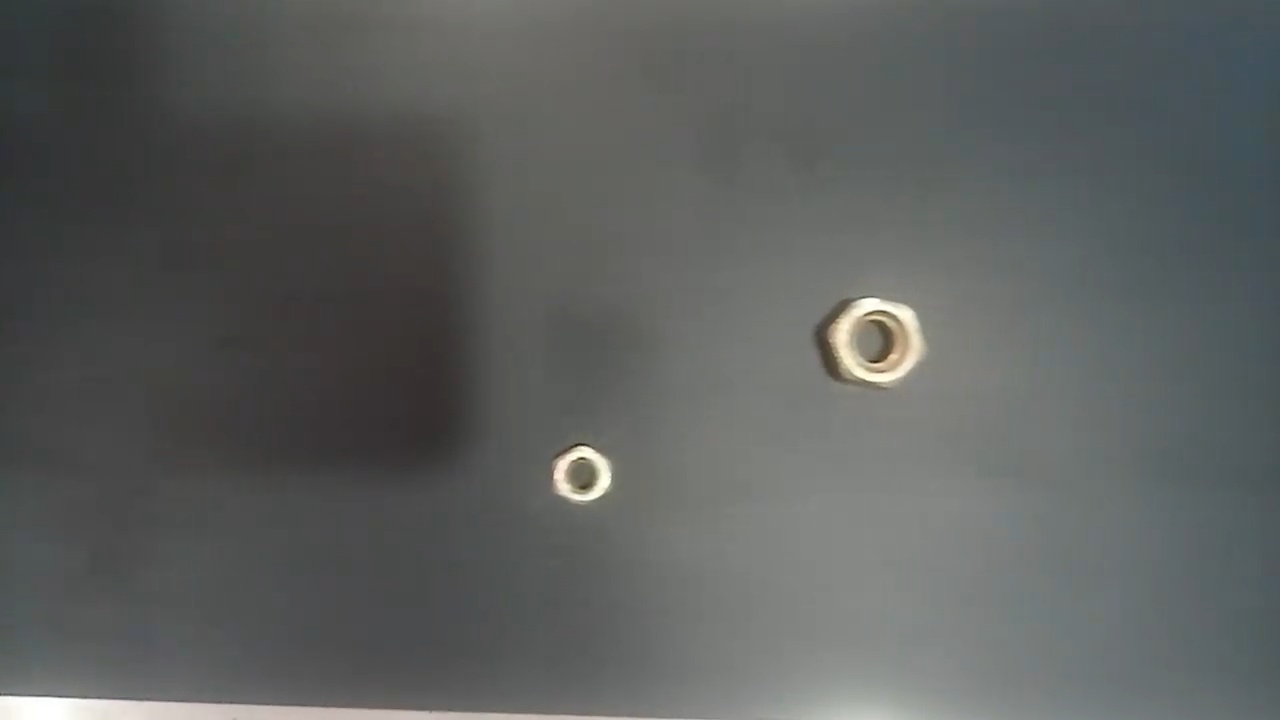Bolt: (813, 293, 928, 389), (550, 438, 613, 506)
